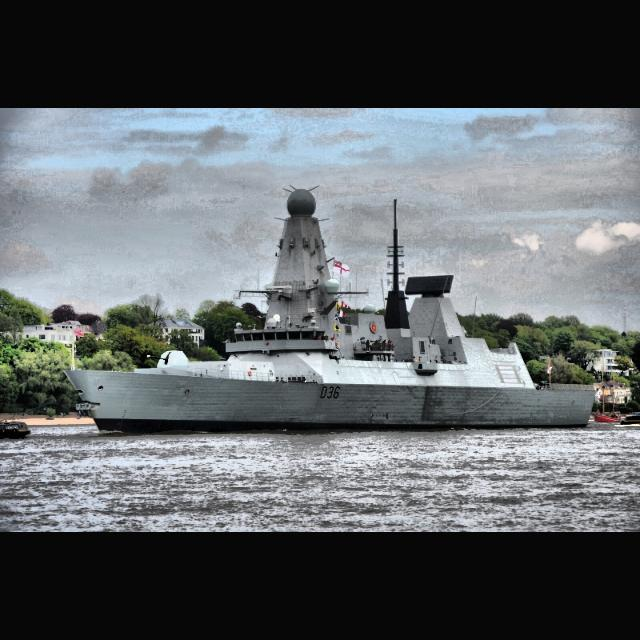combat_vessel: (60, 183, 598, 435)
